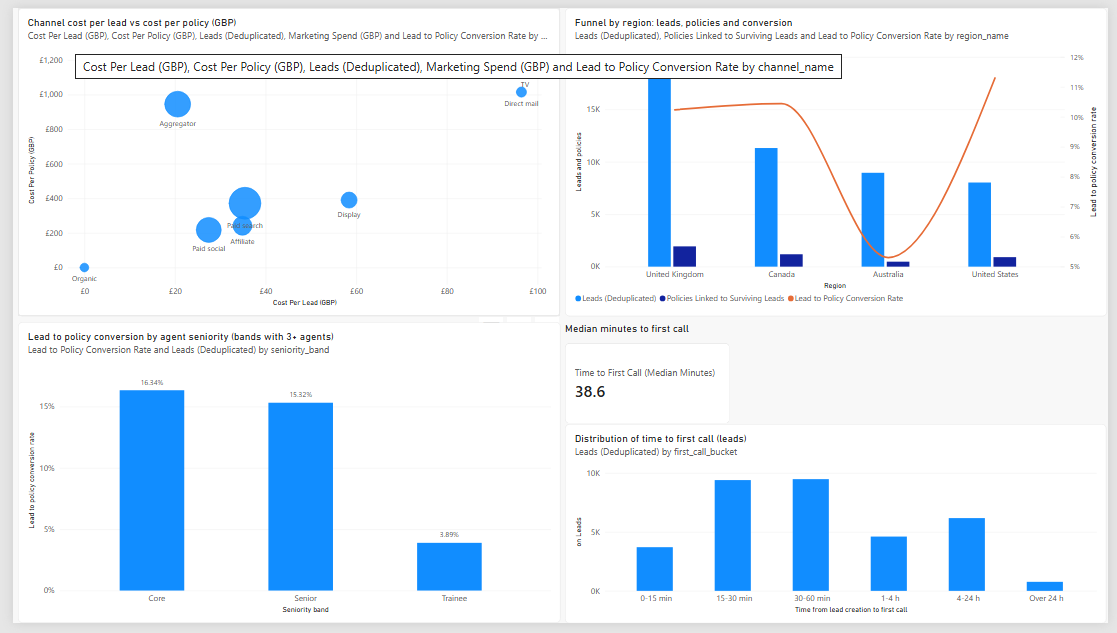

Layout of this report page (visuals, bound fields, positions):
{"tool":"powerbi","page":{"name":"Northgate Life: funnel overview","canvas":[1920,1080],"ordinal":0},"visuals":[{"type":"scatterChart","title":"Channel cost per lead vs cost per policy (GBP)","fields":{"Category":["dim_channel.channel_name"],"Size":["Key Measures.Leads (Deduplicated)"],"X":["Key Measures.Cost Per Lead (GBP)"],"Y":["Key Measures.Cost Per Policy (GBP)"]},"box":[9.4,0,951.1,540.8],"z":0},{"type":"lineClusteredColumnComboChart","title":"Funnel by region: leads, policies and conversion","fields":{"Category":["dim_region.region_name"],"Y":["Key Measures.Leads (Deduplicated)","Key Measures.Policies Linked to Surviving Leads"],"Y2":["Key Measures.Lead to Policy Conversion Rate"]},"box":[968.4,0,951.1,540.8],"z":1000},{"type":"clusteredColumnChart","title":"Lead to policy conversion by agent seniority (bands with 3+ agents)","fields":{"Category":["dim_agent_seniority.seniority_band"],"Y":["Key Measures.Lead to Policy Conversion Rate"]},"box":[8.8,551.1,952.1,528.1],"z":2000},{"type":"clusteredColumnChart","title":"Distribution of time to first call (leads)","fields":{"Category":["fact_lead_funnel.first_call_bucket"],"Y":["Key Measures.Leads (Deduplicated)"]},"box":[967.9,729.5,950.3,349.7],"z":3000},{"type":"cardVisual","title":"Median minutes to first call","fields":{"Data":["Key Measures.Time to First Call (Median Minutes)"]},"box":[967.9,551.1,289.7,178.4],"z":4000}]}

Visuals, with their boxes in screenshot pixels (x1, y1, x2, y2), scaled from the page's 1920x1080 canvas onto the 1117x633 screenshot:
"Channel cost per lead vs cost per policy (GBP)" scatterChart: select_region(5, 0, 559, 317)
"Funnel by region: leads, policies and conversion" lineClusteredColumnComboChart: select_region(563, 0, 1116, 317)
"Lead to policy conversion by agent seniority (bands with 3+ agents)" clusteredColumnChart: select_region(5, 323, 559, 632)
"Distribution of time to first call (leads)" clusteredColumnChart: select_region(563, 428, 1116, 632)
"Median minutes to first call" cardVisual: select_region(563, 323, 732, 428)
